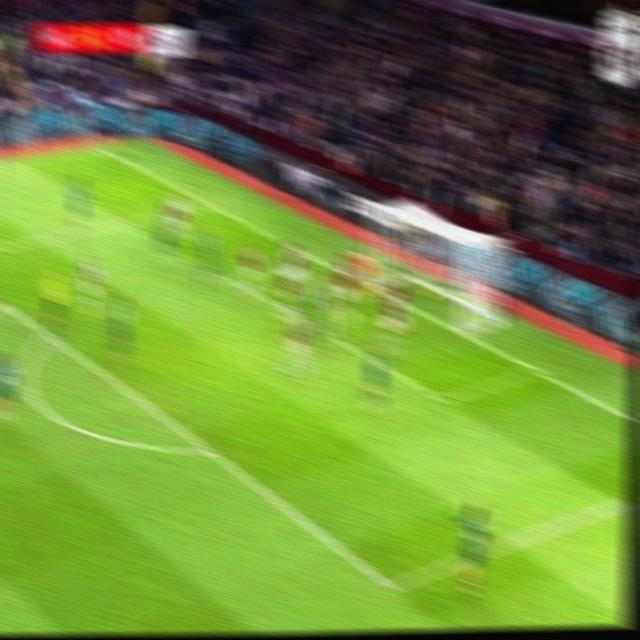bigarea_bottom_inner: (374, 566, 405, 604)
bigarea_top_outter: (198, 193, 220, 213)
bottom_arc_area_intersection: (193, 432, 223, 465)
corner: (87, 139, 112, 157)
smallarea_bottom_inner: (426, 380, 457, 414)
smallarea_bottom_outter: (520, 356, 546, 381)
smallarea_top_inner: (217, 265, 240, 291)
smallarea_top_outter: (299, 246, 324, 268)
top_arc_area_intersection: (35, 321, 61, 350)
